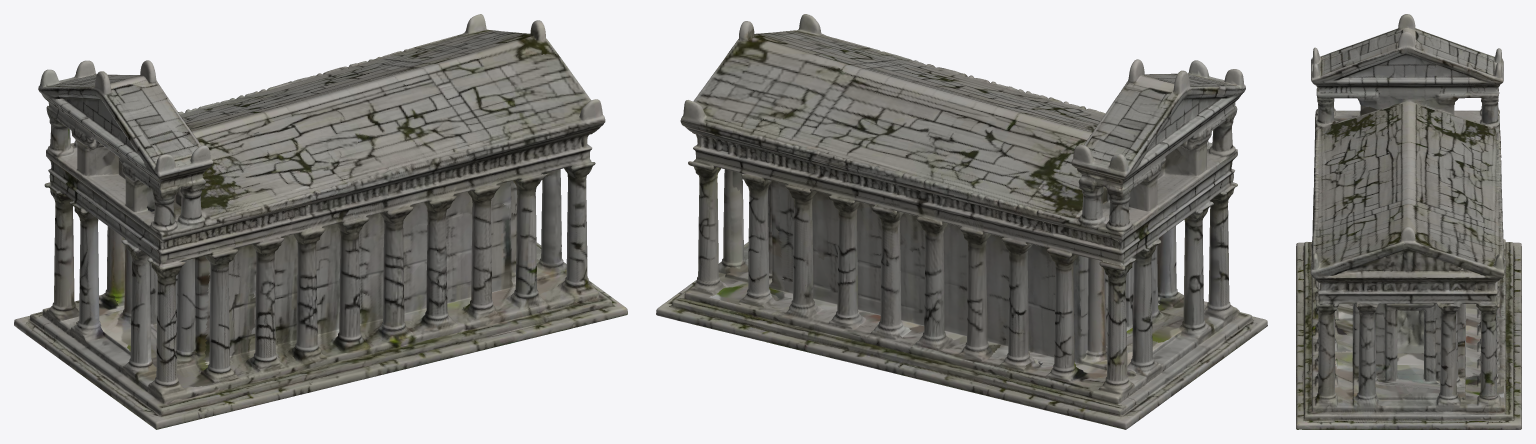
File: stone_temple3.glb
The picture shows the model from 3 angles, left to right: view 1: azimuth 30°, elevation 25°; view 2: azimuth 150°, elevation 25°; view 3: azimuth 270°, elevation 25°; orthographic projection. The views are drawn at different scales.
Bounding box in the file's own units: 1 × 0.6138 × 0.5234.
1 material, 1 textured.
